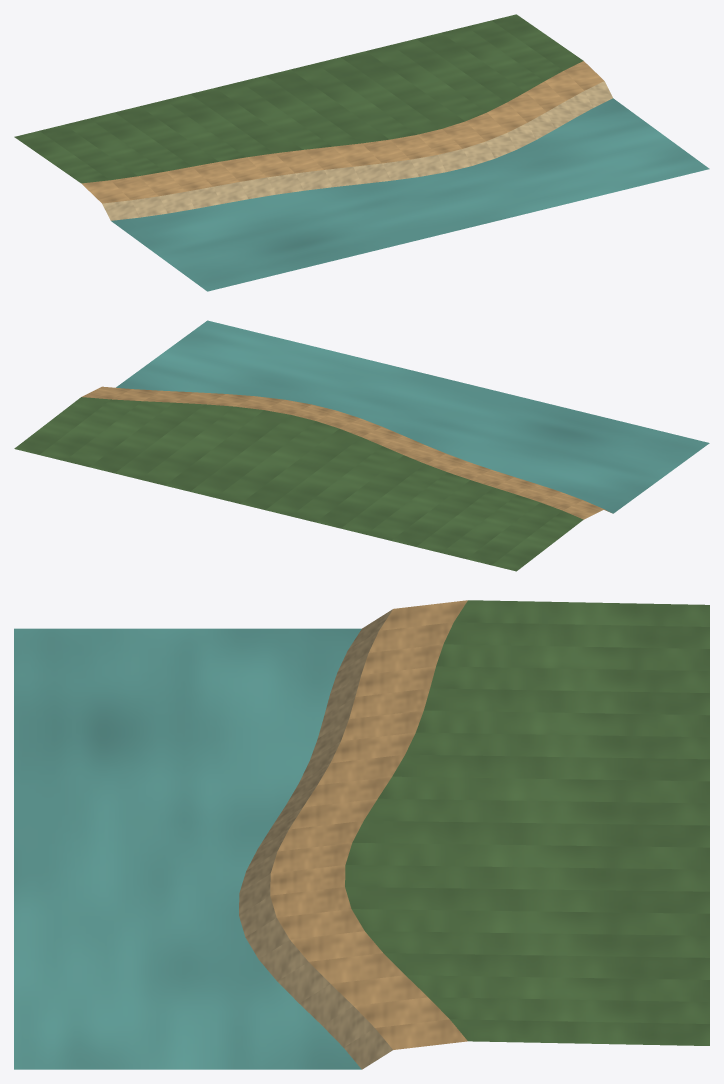
Rendered from lake_edge_set_01.fbx.
The picture shows the model from 3 angles, top to bottom: view 1: azimuth 30°, elevation 25°; view 2: azimuth 150°, elevation 25°; view 3: azimuth 270°, elevation 25°; orthographic projection. The views are drawn at different scales.
Visible parts, largest first — view 1: lake_edge_set_01; view 2: lake_edge_set_01; view 3: lake_edge_set_01.
Boxes of the visible parts, box(x1,y1,x2,y2) form: lake_edge_set_01: box(14, 14, 709, 291); lake_edge_set_01: box(14, 320, 709, 571); lake_edge_set_01: box(14, 600, 709, 1069).
Bounding box in the file's own units: 1200 × 36 × 800.
2 materials, 2 textured.
